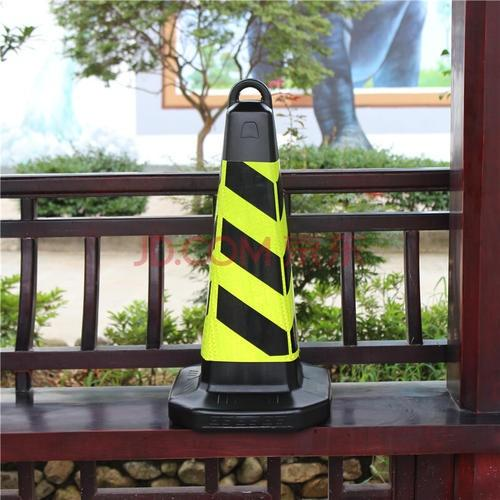cone_barrel: (176, 94, 320, 423)
